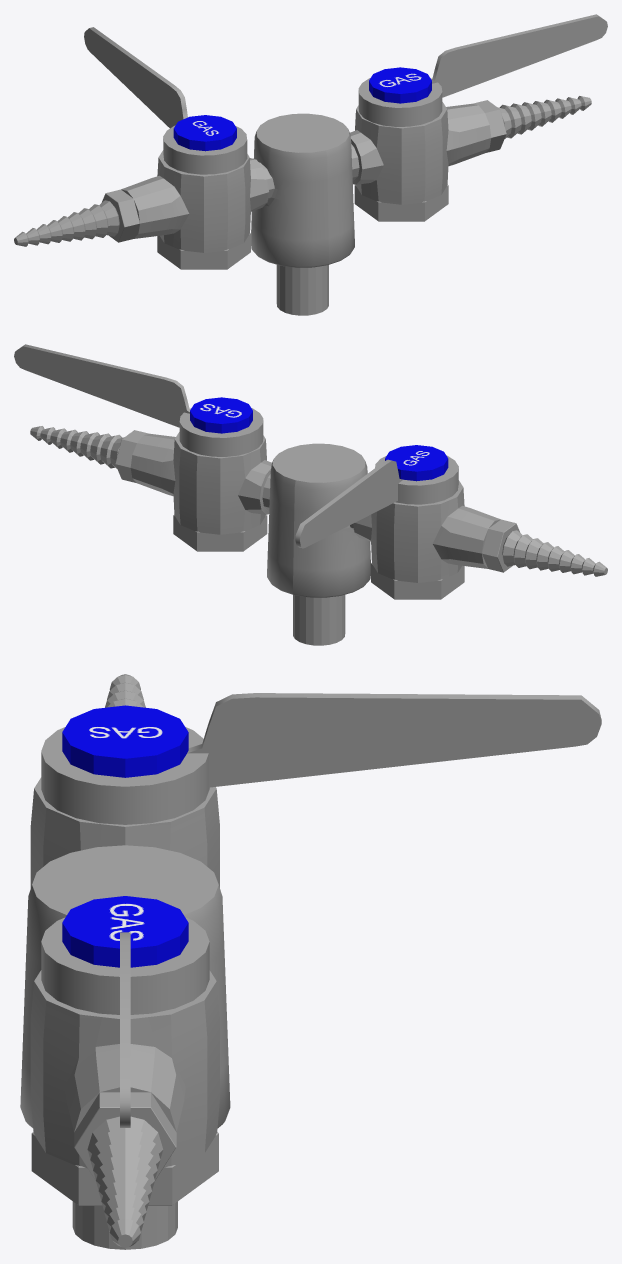
File: gas_valve_2.fbx
The picture shows the model from 3 angles, top to bottom: view 1: azimuth 30°, elevation 25°; view 2: azimuth 150°, elevation 25°; view 3: azimuth 270°, elevation 25°; orthographic projection. The views are drawn at different scales.
Visible parts, largest first — view 1: polySurface7 (×2), base1, polySurface6 (×2), revolvedSurface1 (×2), pCylinder8 (×2), pCylinder11 (×2), pCylinder6 (×2); view 2: polySurface7 (×2), base1, polySurface6 (×2), revolvedSurface1 (×2), pCylinder8 (×2), pCylinder11 (×2), pCylinder6 (×2); view 3: polySurface6 (×2), polySurface7 (×2), base1, pCylinder8 (×2), revolvedSurface1 (×2), pCylinder11, pCylinder6.
Boxes of the visible parts, x1,y1,x2,y2 form: polySurface7 (×2): (121,102,491,252); base1: (251,113,354,315); polySurface6 (×2): (84,14,607,174); revolvedSurface1 (×2): (14,96,591,246); pCylinder8 (×2): (173,67,431,151); pCylinder11 (×2): (157,185,448,269); pCylinder6 (×2): (101,100,506,242); polySurface7 (×2): (130,432,500,582); base1: (267,443,370,645); polySurface6 (×2): (14,344,458,548); revolvedSurface1 (×2): (30,426,607,576); pCylinder8 (×2): (190,397,448,481); pCylinder11 (×2): (173,515,464,599); pCylinder6 (×2): (115,430,520,572); polySurface6 (×2): (41,693,601,1127); polySurface7 (×2): (30,777,219,1168); base1: (20,845,230,1249); pCylinder8 (×2): (62,705,188,967); revolvedSurface1 (×2): (87,674,163,1247); pCylinder11: (31,1132,218,1205); pCylinder6: (74,1092,176,1180).
Bounding box in the file's own units: 16.21 × 5.73 × 6.9.
Materials: 2 (1 with a texture image).
